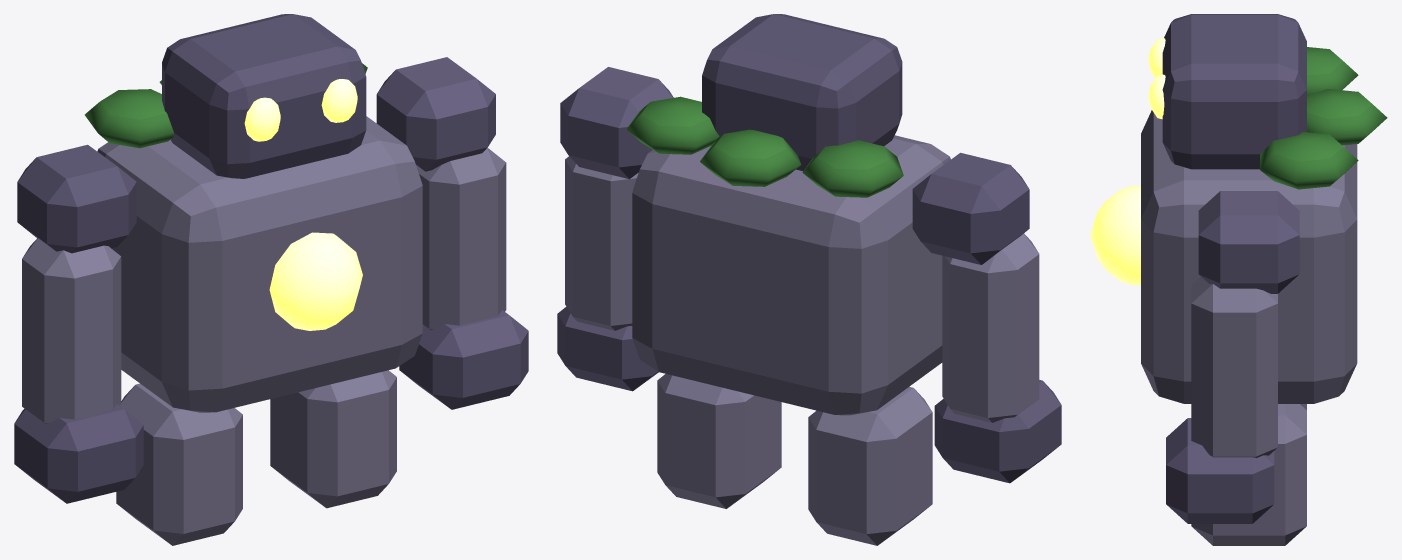
Rendered from monster_pebble_golem.glb.
The picture shows the model from 3 angles, left to right: view 1: azimuth 30°, elevation 25°; view 2: azimuth 150°, elevation 25°; view 3: azimuth 270°, elevation 25°; orthographic projection. The views are drawn at different scales.
Visible parts, largest first — view 1: body_t0_palette, arml_t0_palette, armr_t0_palette, legl_t0_palette, legr_t0_palette, body_t0_glow_gold; view 2: body_t0_palette, arml_t0_palette, armr_t0_palette, legl_t0_palette, legr_t0_palette; view 3: body_t0_palette, armr_t0_palette, legr_t0_palette, body_t0_glow_gold.
Boxes of the visible parts, x1=… form: body_t0_palette: x1=84, y1=14, x2=422, y2=412; arml_t0_palette: x1=14, y1=144, x2=143, y2=503; armr_t0_palette: x1=376, y1=57, x2=528, y2=409; legl_t0_palette: x1=116, y1=383, x2=242, y2=545; legr_t0_palette: x1=270, y1=370, x2=396, y2=508; body_t0_glow_gold: x1=244, y1=79, x2=362, y2=330; body_t0_palette: x1=626, y1=14, x2=950, y2=415; arml_t0_palette: x1=912, y1=152, x2=1061, y2=483; armr_t0_palette: x1=557, y1=67, x2=673, y2=391; legl_t0_palette: x1=808, y1=386, x2=932, y2=545; legr_t0_palette: x1=657, y1=374, x2=781, y2=508; body_t0_palette: x1=1141, y1=14, x2=1387, y2=403; armr_t0_palette: x1=1166, y1=191, x2=1299, y2=523; legr_t0_palette: x1=1191, y1=404, x2=1306, y2=545; body_t0_glow_gold: x1=1090, y1=38, x2=1165, y2=285.
Size of the model in its own units: 0.375 by 0.35 by 0.206.
